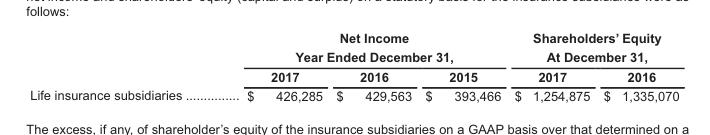table: (29, 29, 678, 104)
table column: (29, 29, 213, 104), (213, 29, 328, 104), (417, 29, 507, 104), (328, 29, 417, 104), (507, 29, 596, 104), (596, 29, 678, 104)
table column header: (29, 29, 678, 86)
table row: (29, 29, 678, 67), (29, 67, 678, 86), (29, 86, 678, 104)
table spanning cell: (213, 29, 507, 67), (507, 29, 678, 67)
